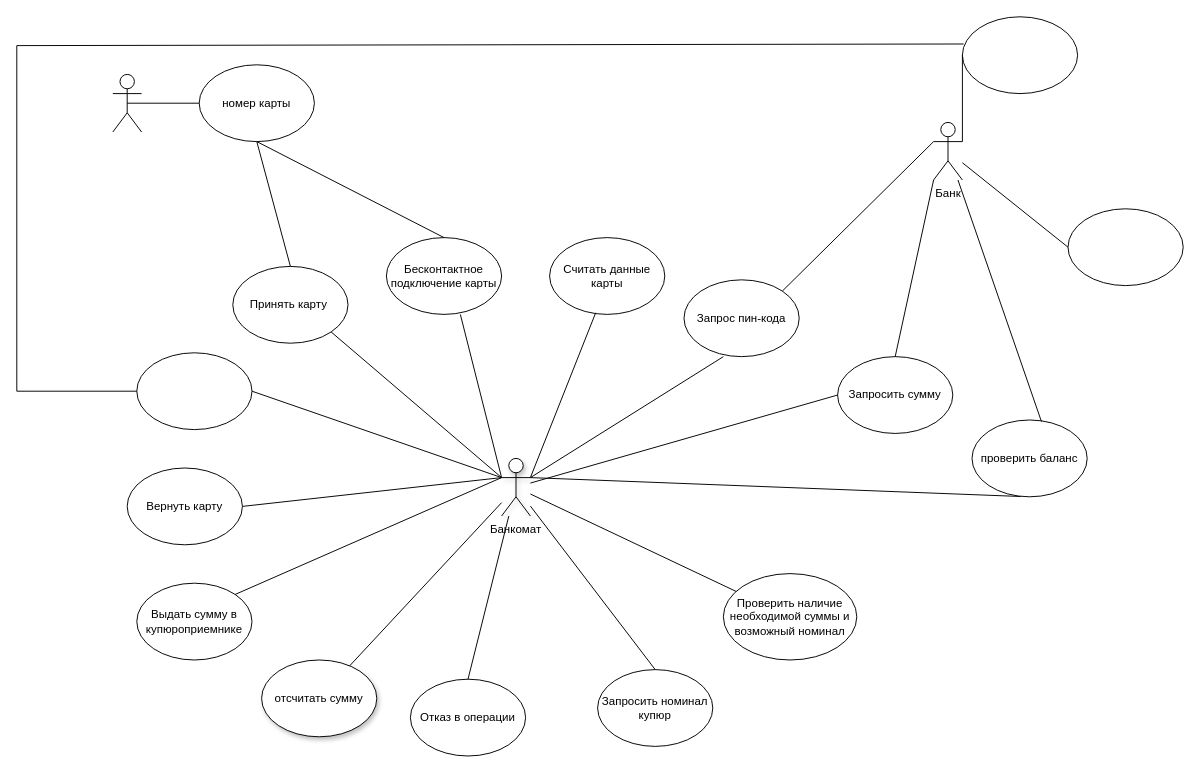
Image size: 1200x773. Some labels were removed from this diagram. Each missing label, with the centre of its shape:
"Банковская карта" belongs at (x=127, y=102).
"Блокировка забытой карты" belongs at (x=194, y=391).
"выемка забытых карт" belongs at (x=1019, y=55).
"Загрузка денег (картриджей с купюрами)" belongs at (x=1125, y=247).
